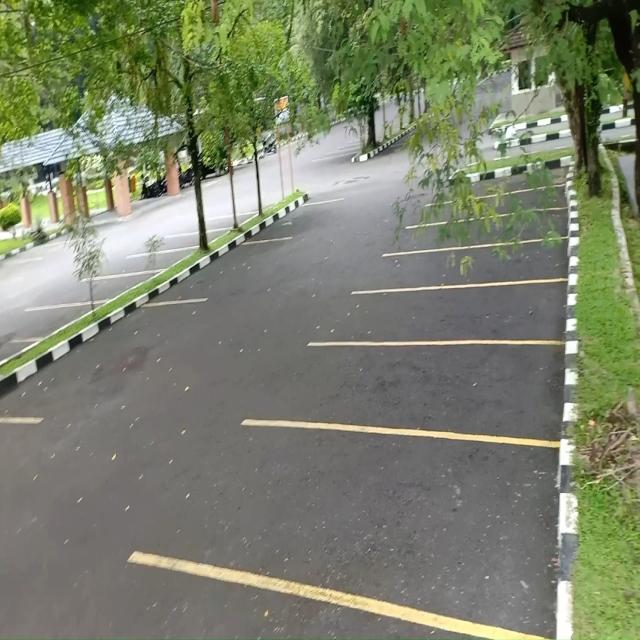empty: (255, 426, 551, 609), (331, 338, 560, 443), (372, 282, 569, 341), (394, 243, 567, 289), (191, 240, 297, 300), (2, 304, 73, 342), (61, 274, 140, 304), (122, 251, 182, 275)
